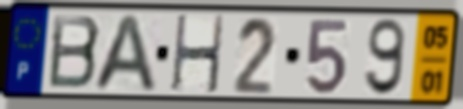2: (230, 14, 280, 97)
5: (302, 17, 353, 97)
9: (363, 15, 409, 99)
A: (88, 11, 160, 95)
B: (46, 12, 104, 91)
H: (169, 13, 227, 97)
